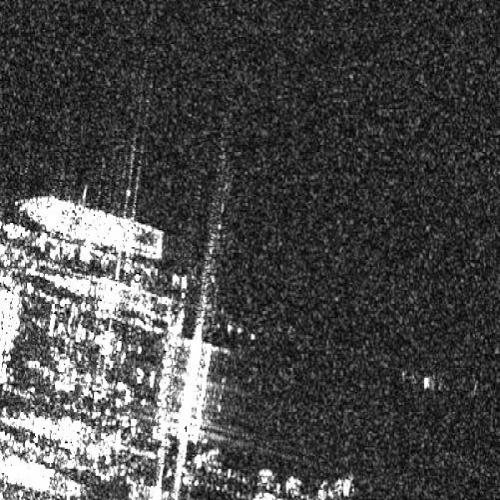ship: (17, 195, 166, 260)
